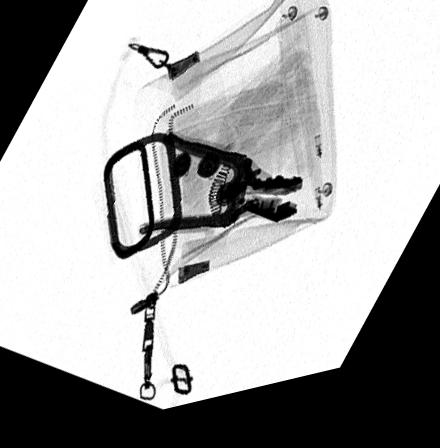Pliers: (137, 137, 306, 241)
